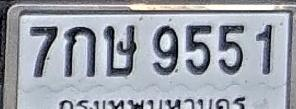1: (256, 24, 273, 74)
5: (218, 24, 245, 74), (186, 24, 212, 75)
7: (30, 26, 57, 78)
9: (153, 25, 178, 75)
A01: (64, 26, 96, 77)
A39: (104, 24, 137, 77)
